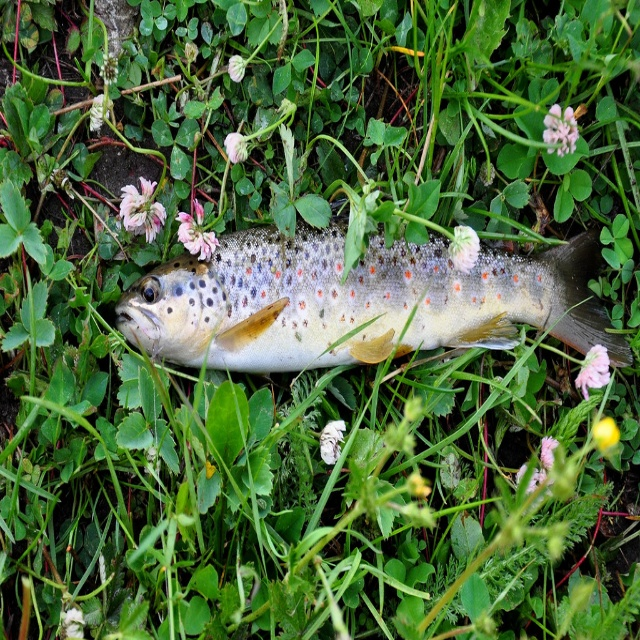Fish: (114, 228, 634, 372)
